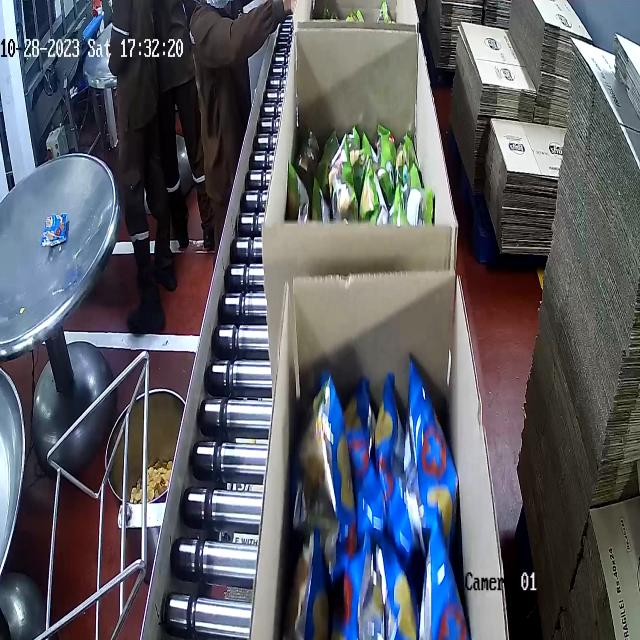PAPRIKA: (294, 363, 458, 609)
